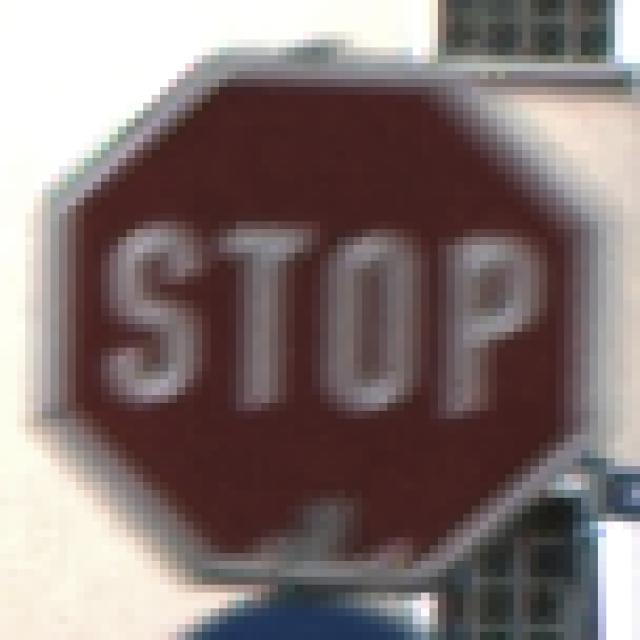STOP: (52, 56, 591, 586)
